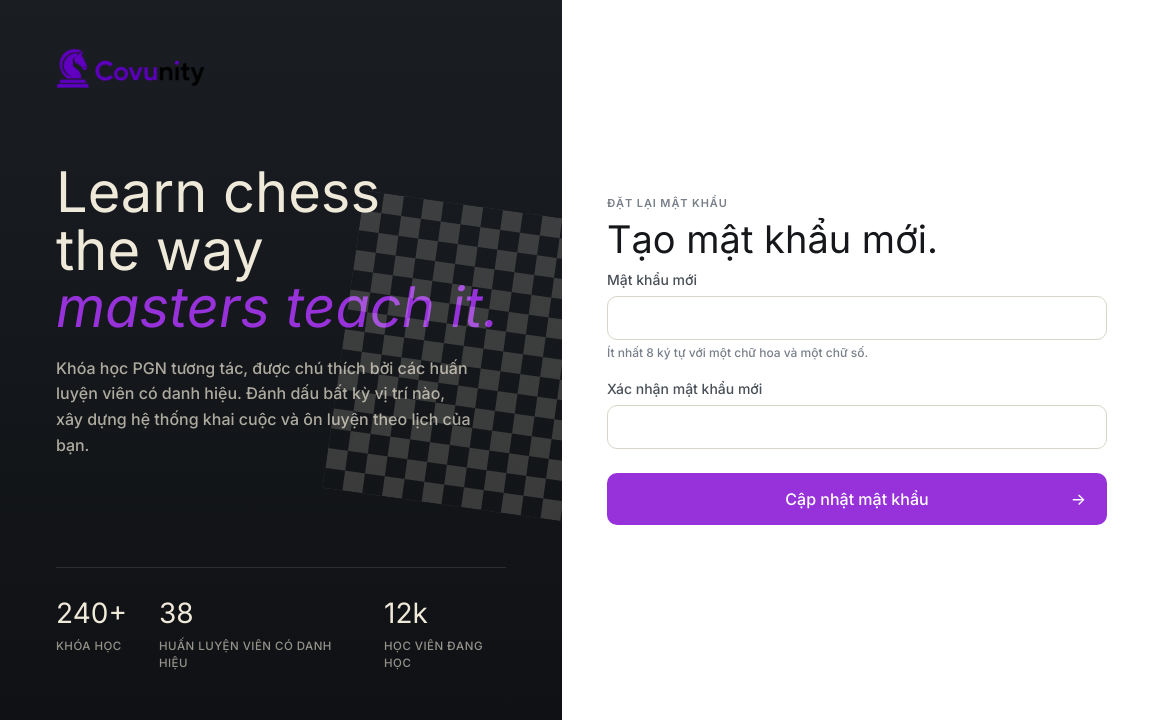
Test: ResetPasswordPage › shows required errors on empty submit
Click the button "Cập nhật mật khẩu →": click(857, 499) [607,473,1107,525]
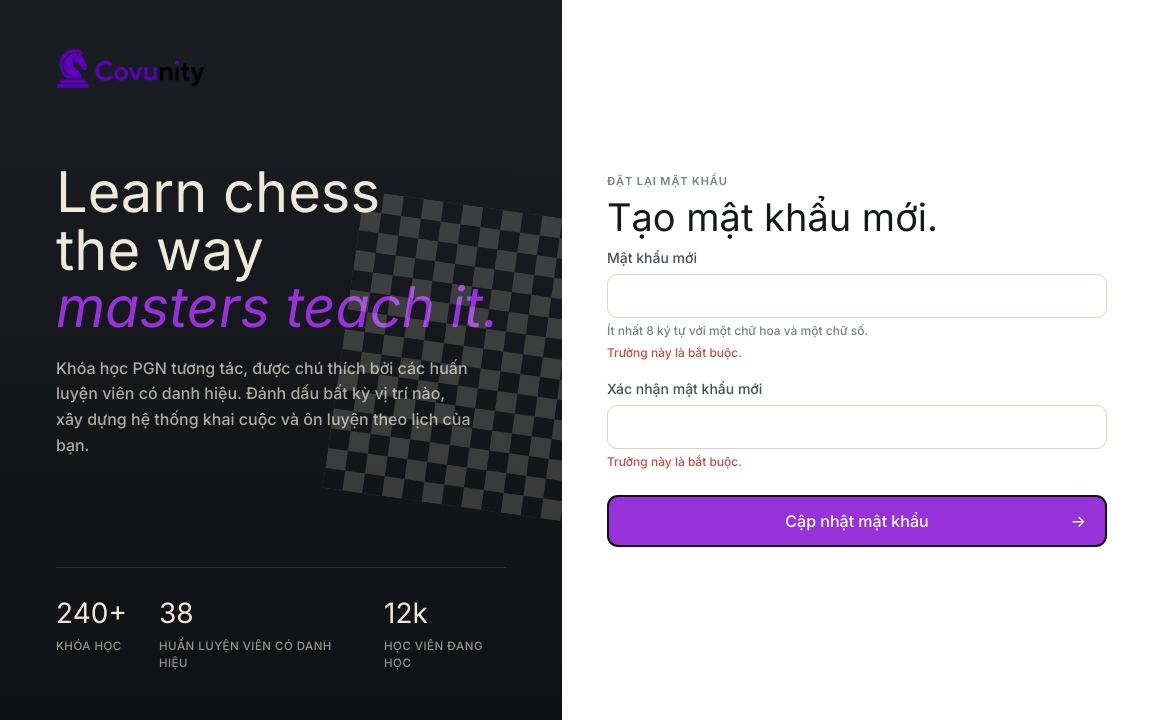
Expected: the 1st text "Trường này là bắt buộc." is shown, [607,345,742,360]
